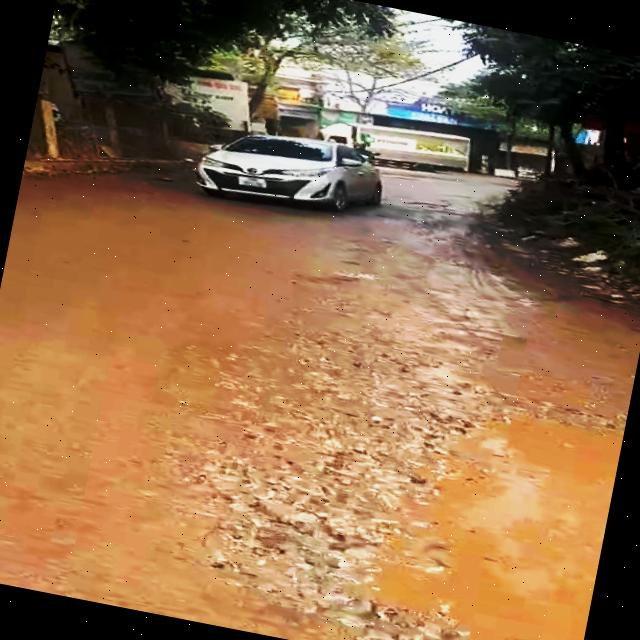pothole: (216, 330, 630, 640)
